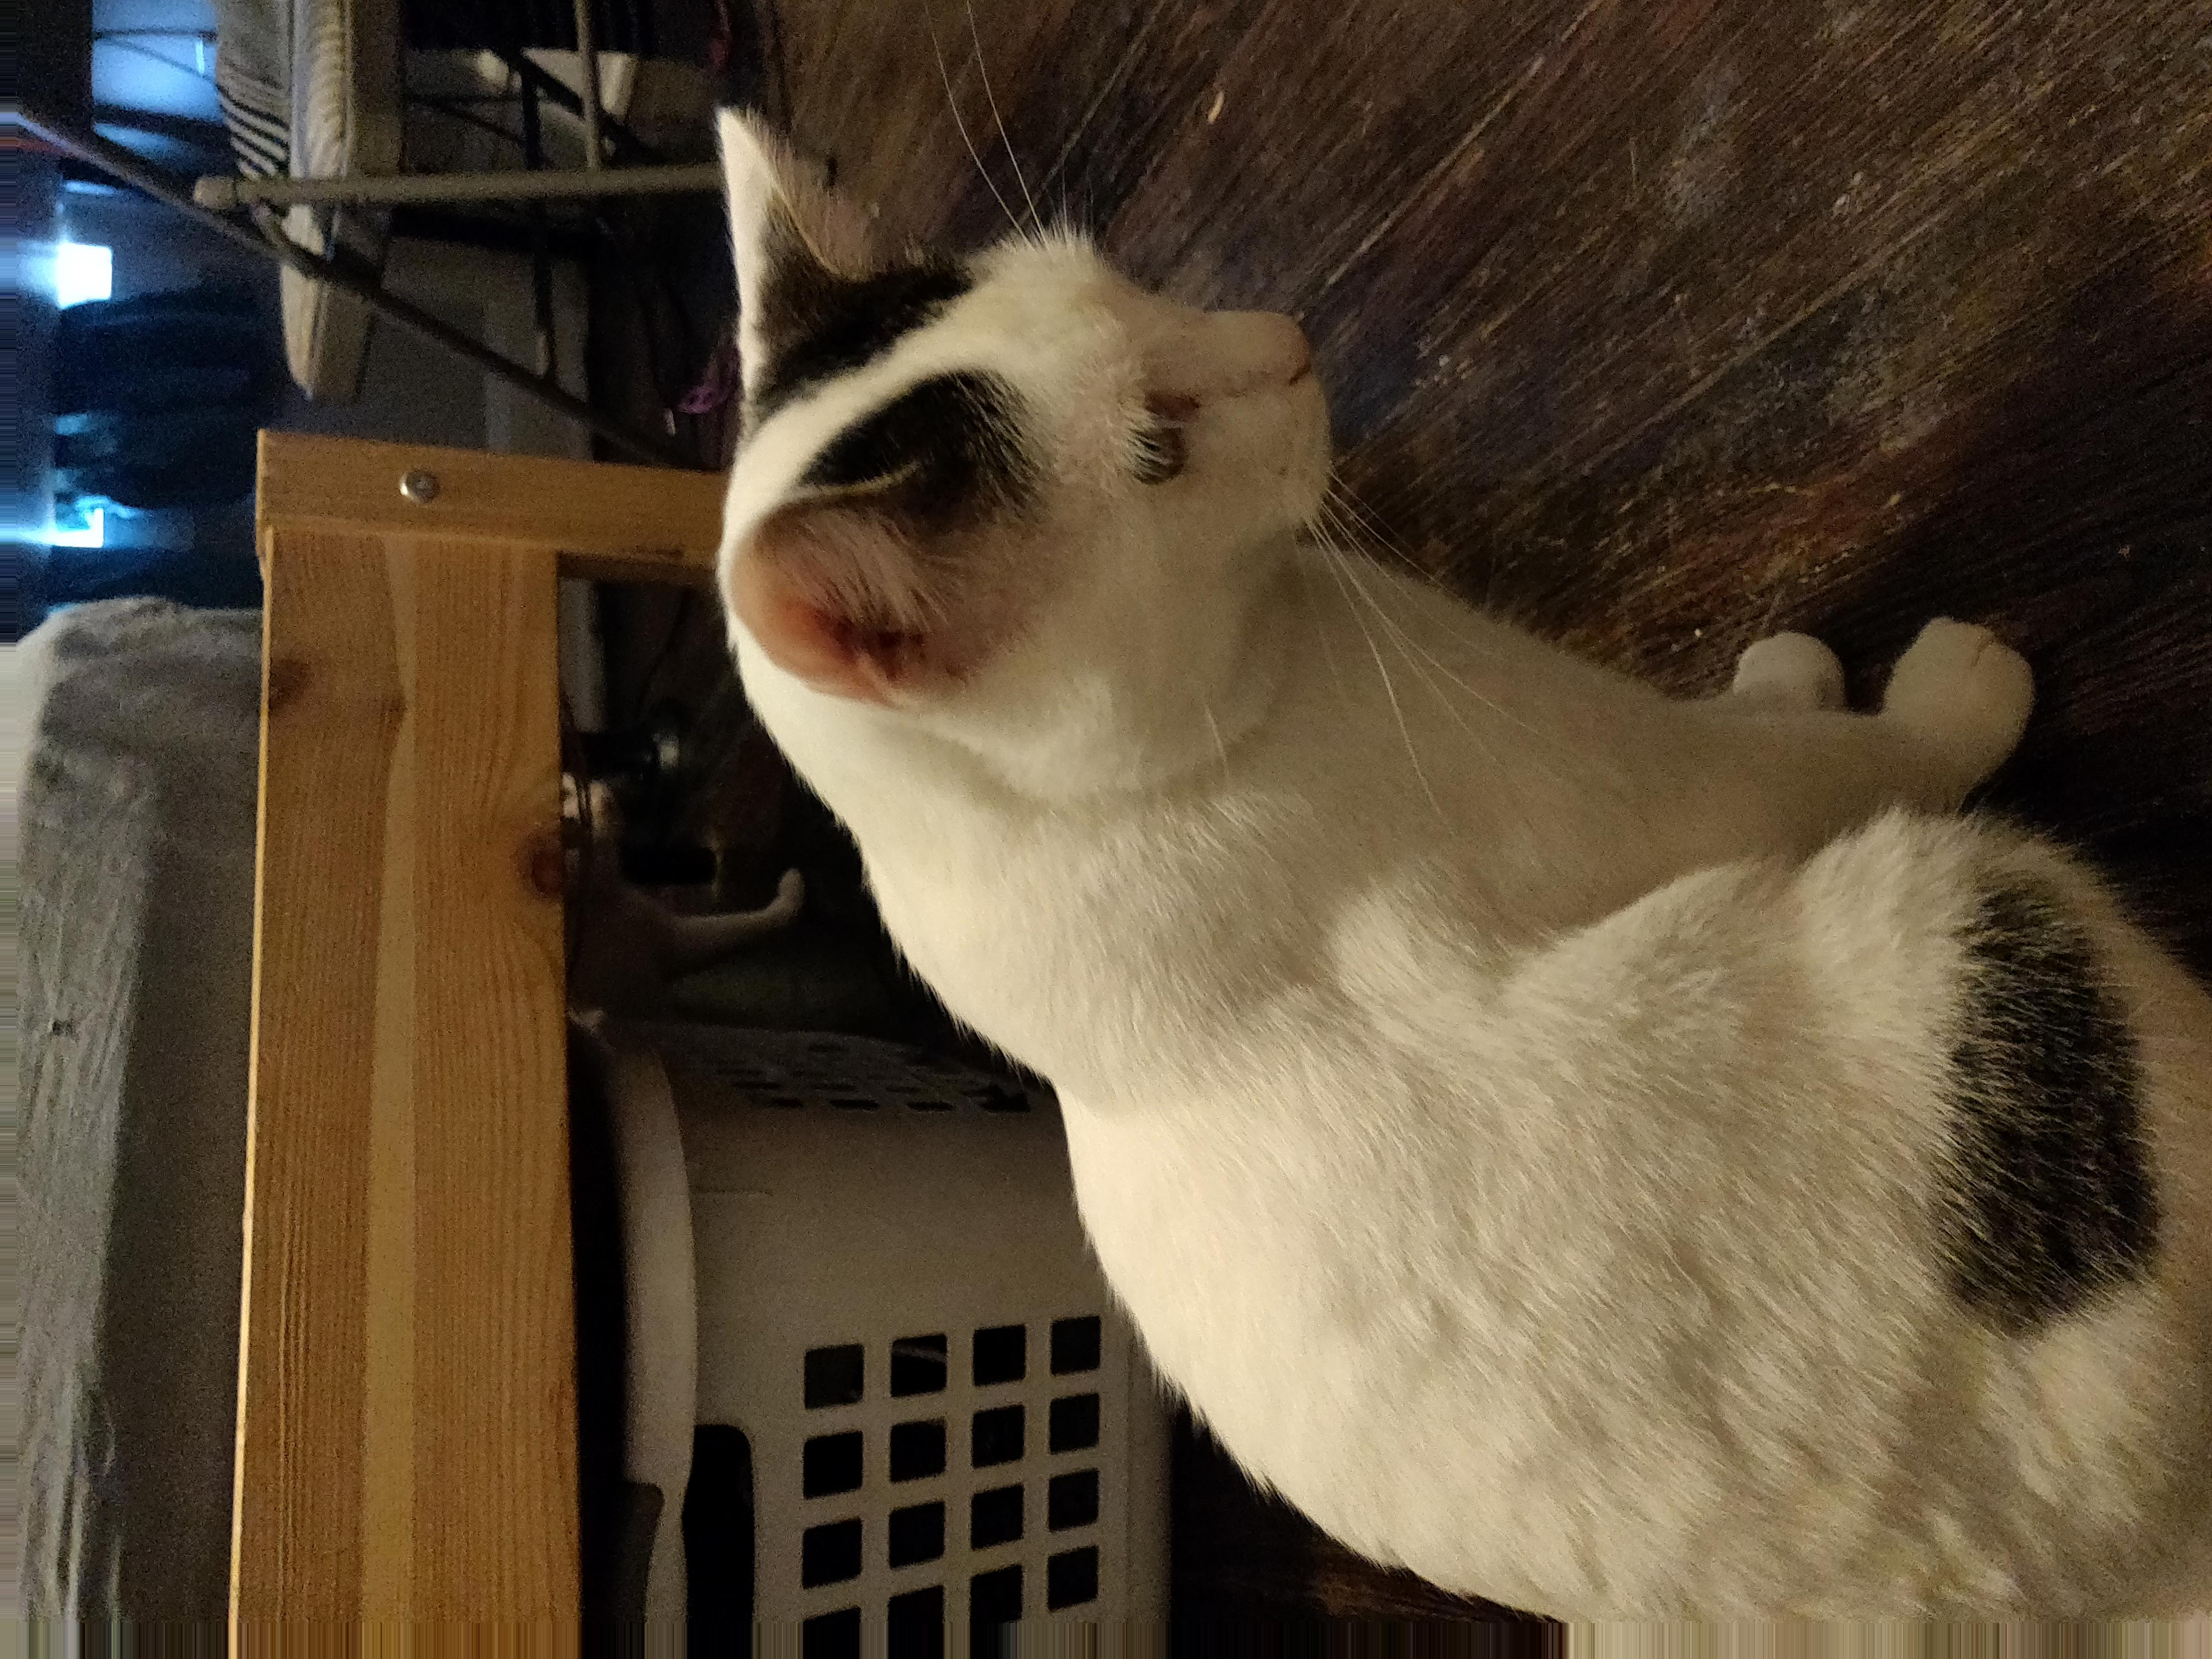cat: (702, 90, 2212, 1659)
